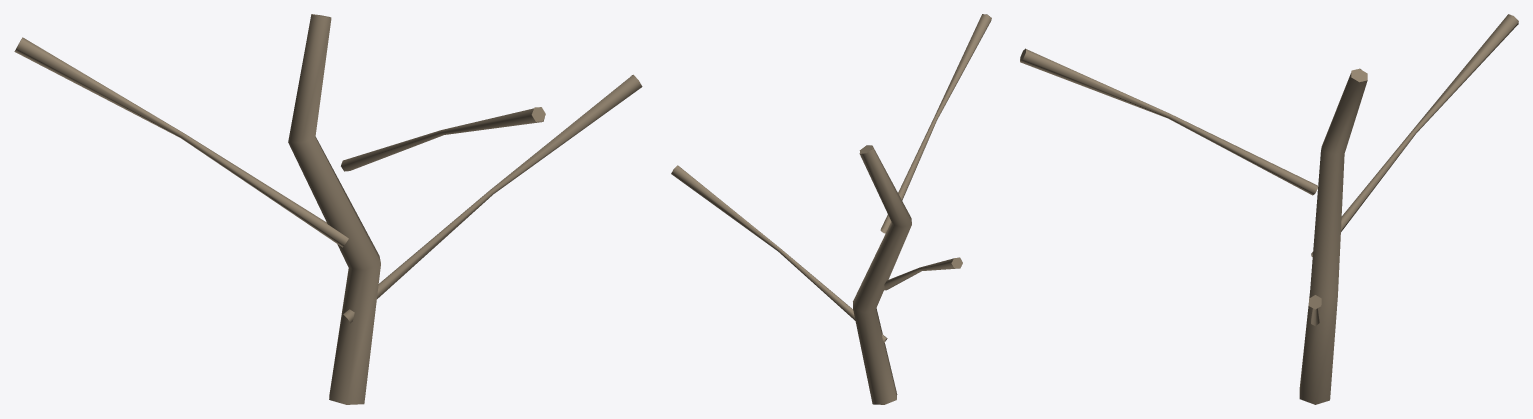
Rendered from debris_lod1.glb.
3 views of the same model, side by side, from view 1: azimuth 30°, elevation 25°; view 2: azimuth 150°, elevation 25°; view 3: azimuth 270°, elevation 25° (orthographic). The views are drawn at different scales.
Parts seen in each view (by area): view 1: Bark; view 2: Bark; view 3: Bark.
Part boxes in pixels (<box>): Bark: <box>14,14,642,404</box>; Bark: <box>671,14,991,404</box>; Bark: <box>1020,14,1518,404</box>.
Bounding box in the file's own units: 1.77 × 1.35 × 1.7.
